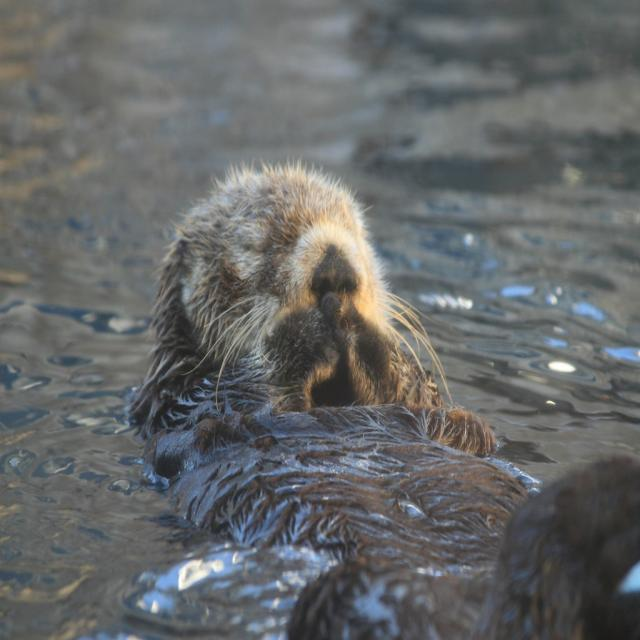otter: (136, 168, 640, 640)
